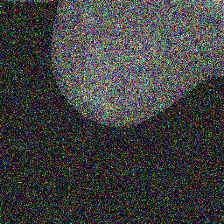Mass_1: (79, 195, 97, 222)
